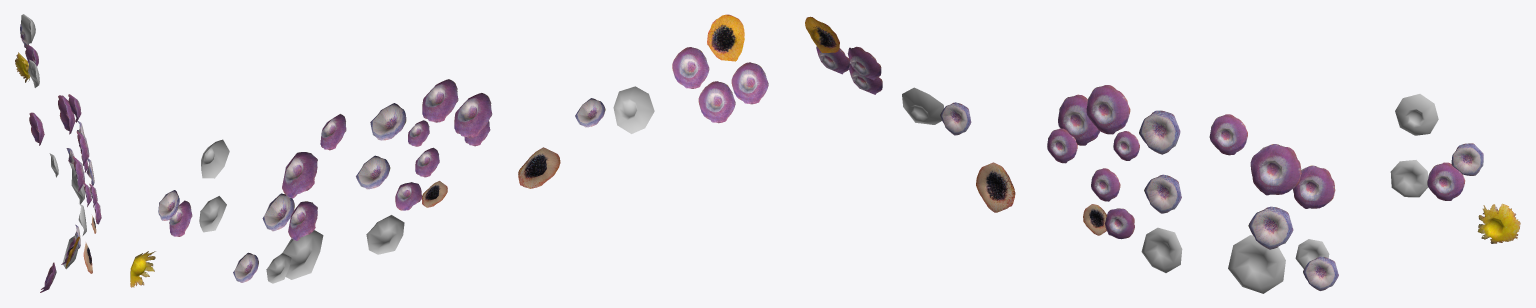
The model's file is Right_Flower12.fbx.
The picture shows the model from 3 angles, left to right: view 1: azimuth 30°, elevation 25°; view 2: azimuth 150°, elevation 25°; view 3: azimuth 270°, elevation 25°; orthographic projection. The views are drawn at different scales.
Visible parts, largest first — view 1: Circle.1753, Circle.1742, Circle.1745, Circle.1722, Circle.1747, Circle.1736, Circle.1731, Circle.1749, Circle.1732, Circle.1739, Circle.1723, Circle.1685 (+12 smaller); view 2: Circle.1685, Circle.1720, Circle.1747, Circle.1736, Circle.1753, Circle.1719, Circle.1718, Circle.1723, Circle.1717, Circle.1731, Circle.1738, Circle.1743 (+16 smaller); view 3: Circle.1747, Circle.1753, Circle.1731, Circle.1723, Circle.1742, Circle.1729, Circle.1745, Circle.1738, Circle.1736, Circle.1743, Circle.1722, Circle.1732 (+17 smaller).
Part boxes in pixels (x1,y1,x2,y2): Circle.1753: (58,95,75,134); Circle.1742: (29,112,44,145); Circle.1745: (21,14,35,43); Circle.1722: (15,52,30,82); Circle.1747: (69,162,85,203); Circle.1736: (72,156,84,191); Circle.1731: (76,131,89,165); Circle.1749: (28,59,39,87); Circle.1732: (68,94,81,122); Circle.1739: (25,45,38,66); Circle.1723: (83,242,92,273); Circle.1685: (62,235,78,269); Circle.1685: (613,86,654,133); Circle.1720: (707,14,744,61); Circle.1747: (281,230,323,279); Circle.1736: (454,93,492,137); Circle.1753: (282,152,317,198); Circle.1719: (672,47,709,88); Circle.1718: (698,81,735,123); Circle.1723: (518,147,560,188); Circle.1717: (731,62,768,104); Circle.1731: (422,79,458,122); Circle.1738: (366,215,404,254); Circle.1743: (370,103,406,140); Circle.1747: (1228,235,1285,293); Circle.1753: (1250,144,1301,195); Circle.1731: (1086,85,1130,134); Circle.1723: (976,162,1015,212); Circle.1742: (1293,165,1335,208); Circle.1729: (1248,206,1293,249); Circle.1745: (1395,94,1438,135); Circle.1738: (1141,227,1182,272); Circle.1736: (1058,94,1099,145); Circle.1743: (1139,110,1180,154); Circle.1722: (1477,203,1520,243); Circle.1732: (1209,114,1247,155).
Bounding box in the file's own units: 69.7 × 41.5 × 135.
